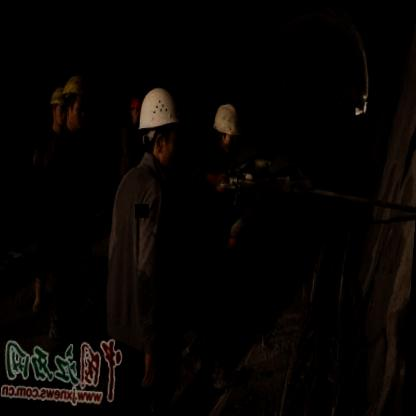helmet: (132, 80, 189, 170), (59, 71, 90, 135), (209, 99, 243, 156), (48, 85, 68, 127), (128, 92, 146, 126)
